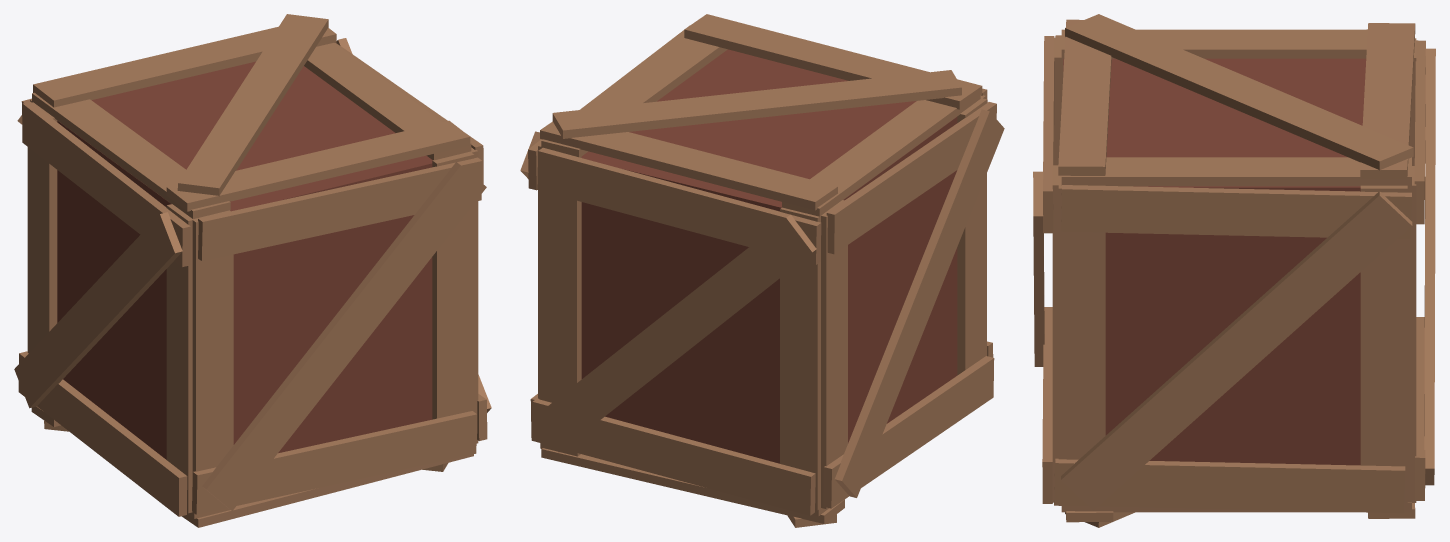
Rendered from woodenBox.fbx.
The picture shows the model from 3 angles, left to right: view 1: azimuth 30°, elevation 25°; view 2: azimuth 150°, elevation 25°; view 3: azimuth 270°, elevation 25°; orthographic projection. The views are drawn at different scales.
Parts seen in each view (by area): view 1: Box; view 2: Box; view 3: Box.
Part boxes in pixels (x1=…): Box: x1=14, y1=14, x2=491, y2=527; Box: x1=520, y1=14, x2=1004, y2=527; Box: x1=1033, y1=14, x2=1435, y2=527.
Size of the model in its own units: 1.7 by 1.73 by 1.7.
